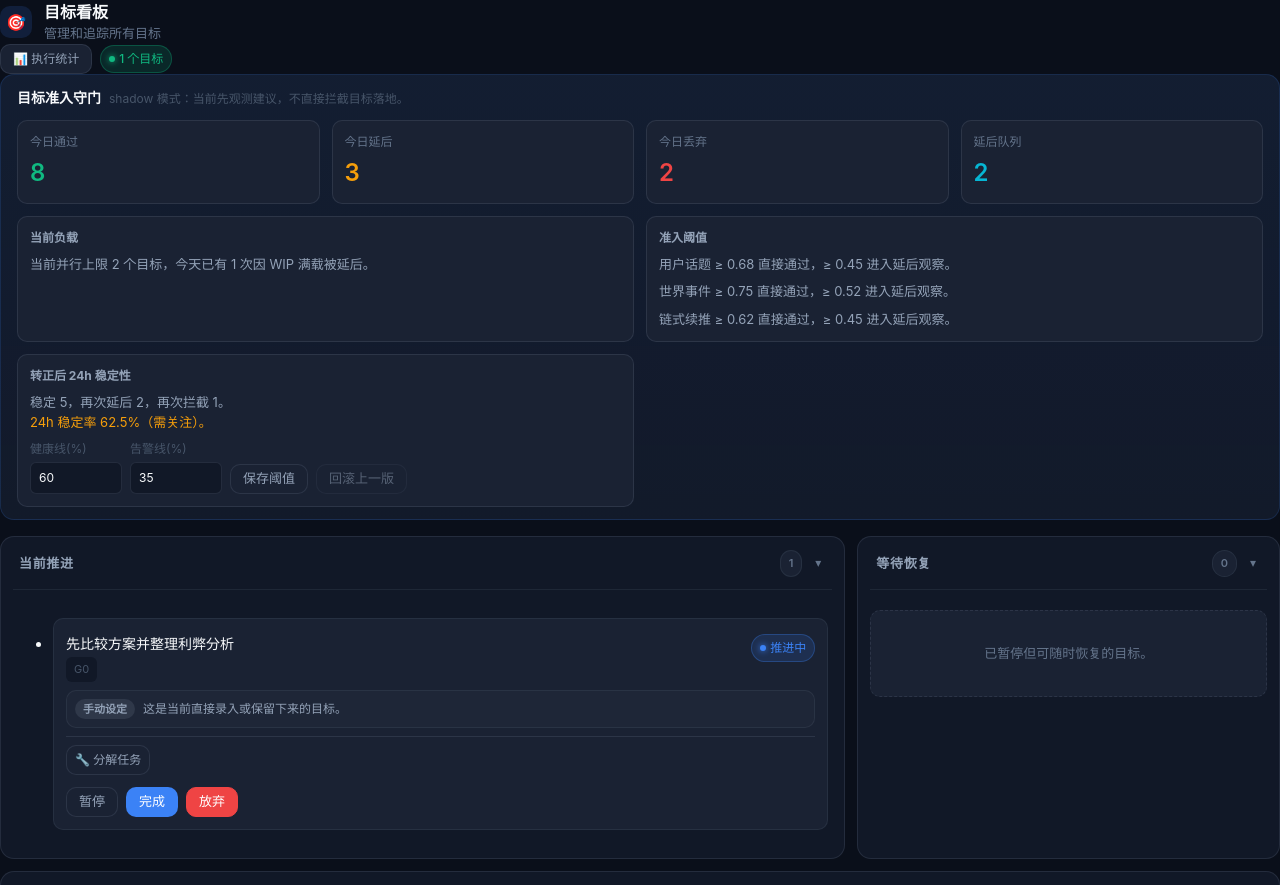
Test: can undo threshold update before delayed commit
Expected: the text "目标准入守门" is shown, [17,86,101,108]
Replace the text in the number field labelled "健康线(%)" with "70" at [76, 478], box [30,462,122,494]
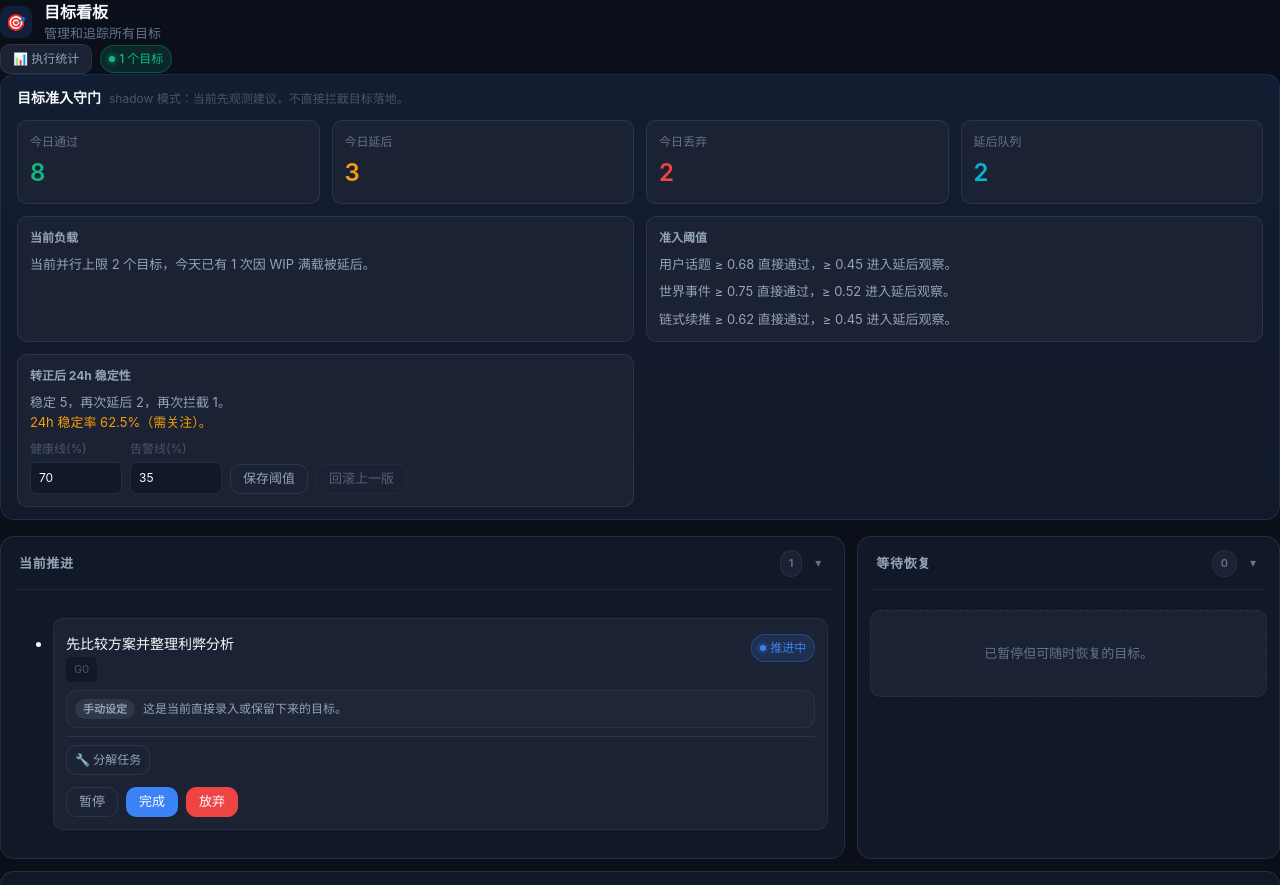
Replace the text in the number field labelled "告警线(%)" with "40" at [176, 478], box [130,462,222,494]
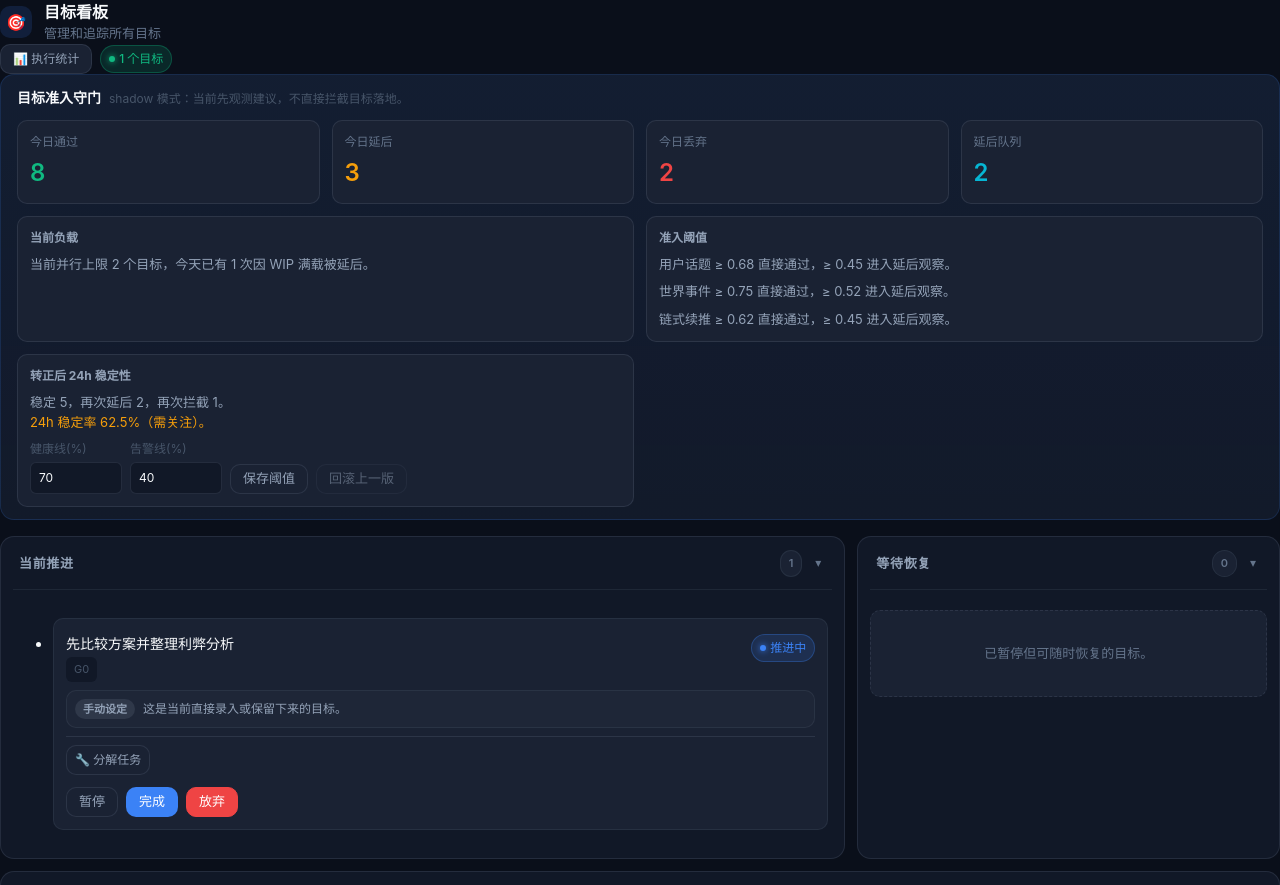
Click the button "保存阈值" at [269, 479], box [230,464,308,494]
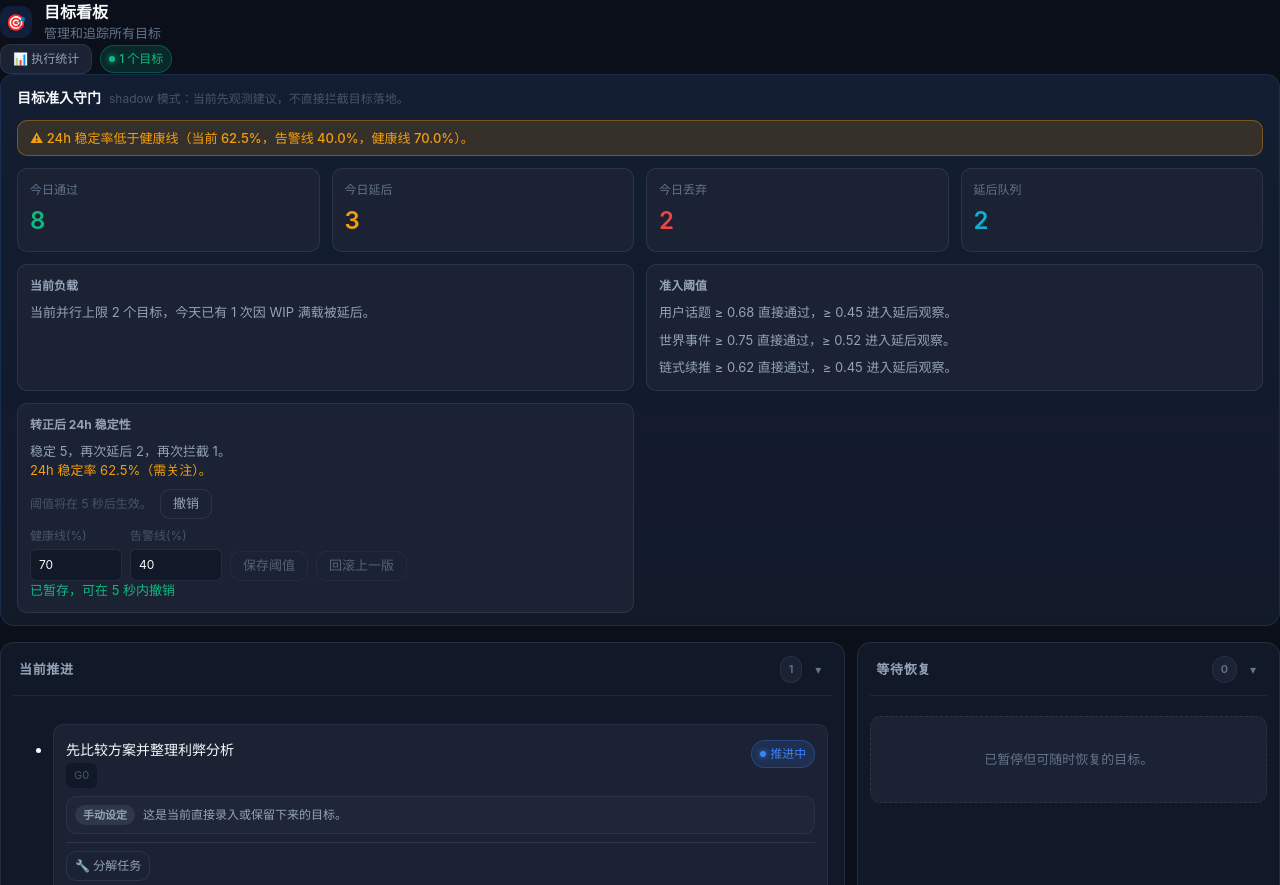
Click the button "撤销" at [186, 504], box [160,489,212,519]
Wait 5200 ms
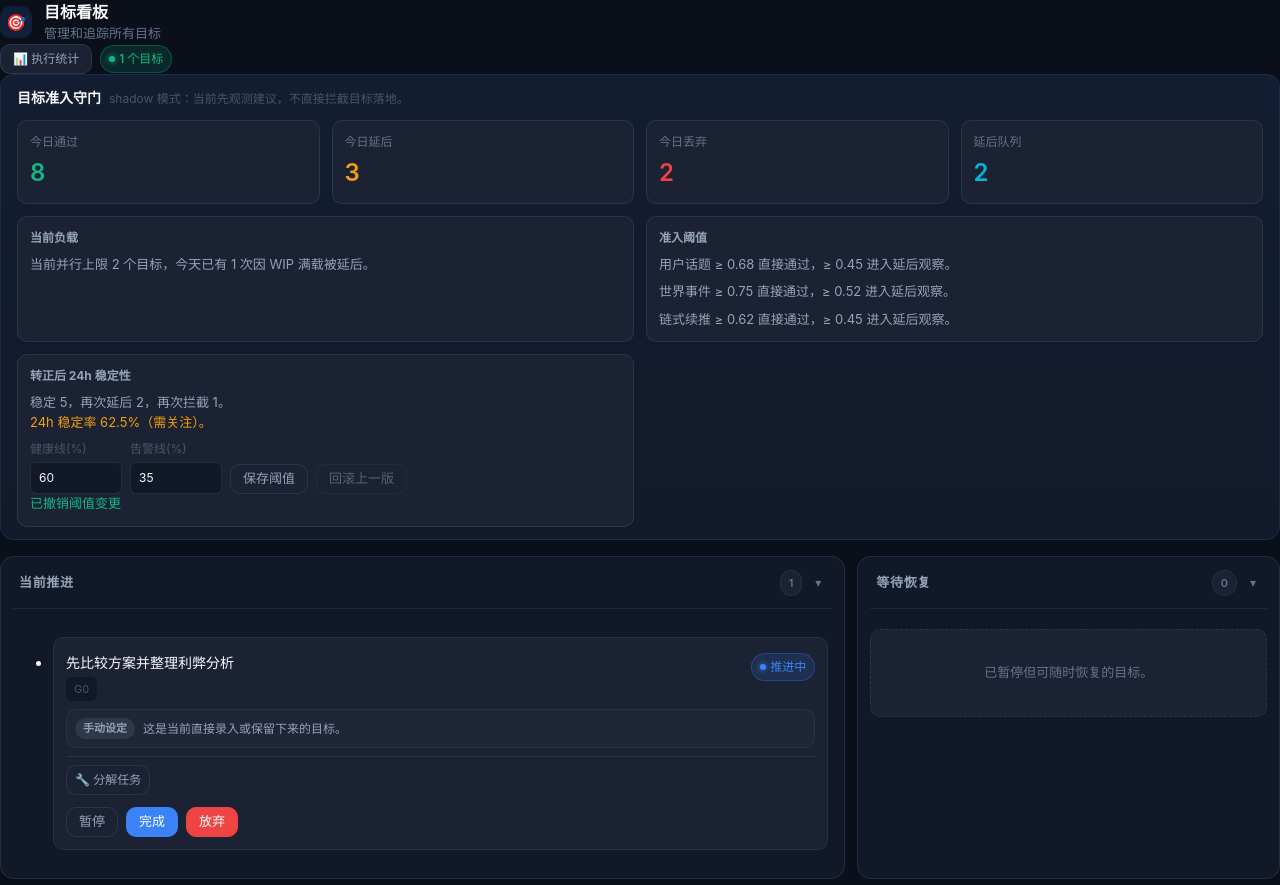
Expected: the text "已撤销阈值变更" is shown, [30,495,121,511]
Expected: the number field labelled "健康线(%)" holds "60", [30,462,122,494]
Expected: the number field labelled "告警线(%)" holds "35", [130,462,222,494]
